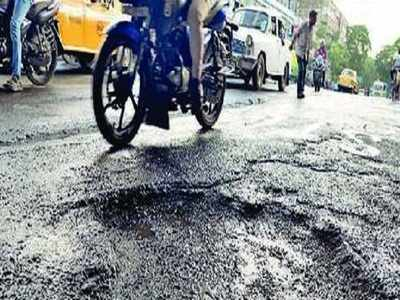pothole: (50, 188, 362, 299)
